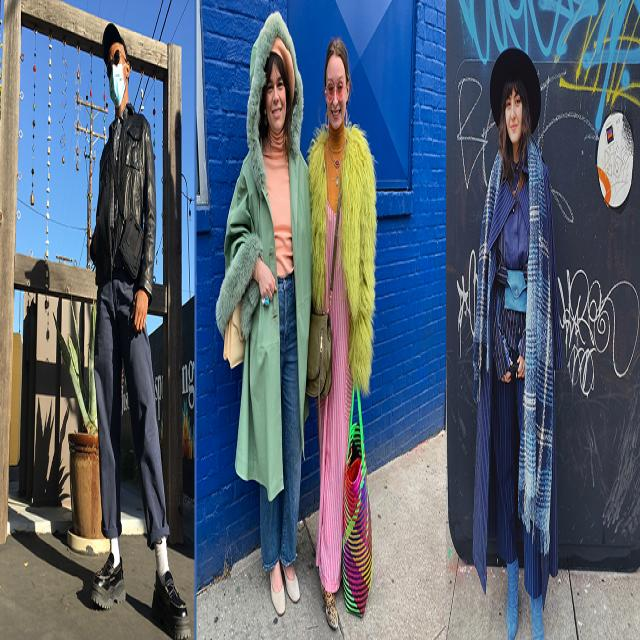Jacket: (232, 140, 316, 488), (92, 108, 162, 303)
